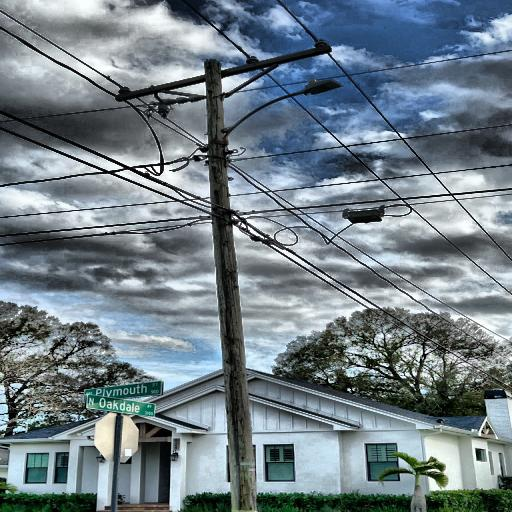pole: (197, 50, 276, 512)
street light: (215, 76, 345, 148)
